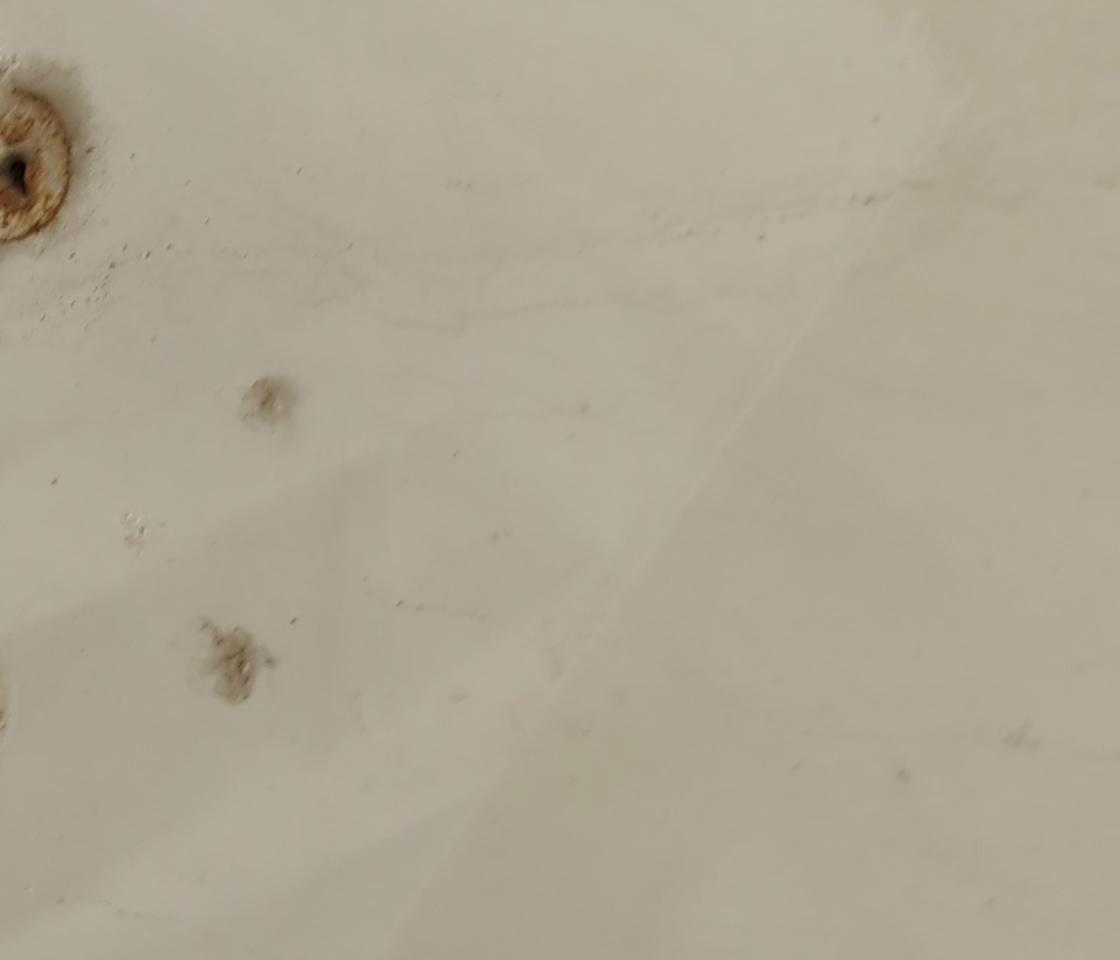rivet_damage: (2, 90, 75, 256)
